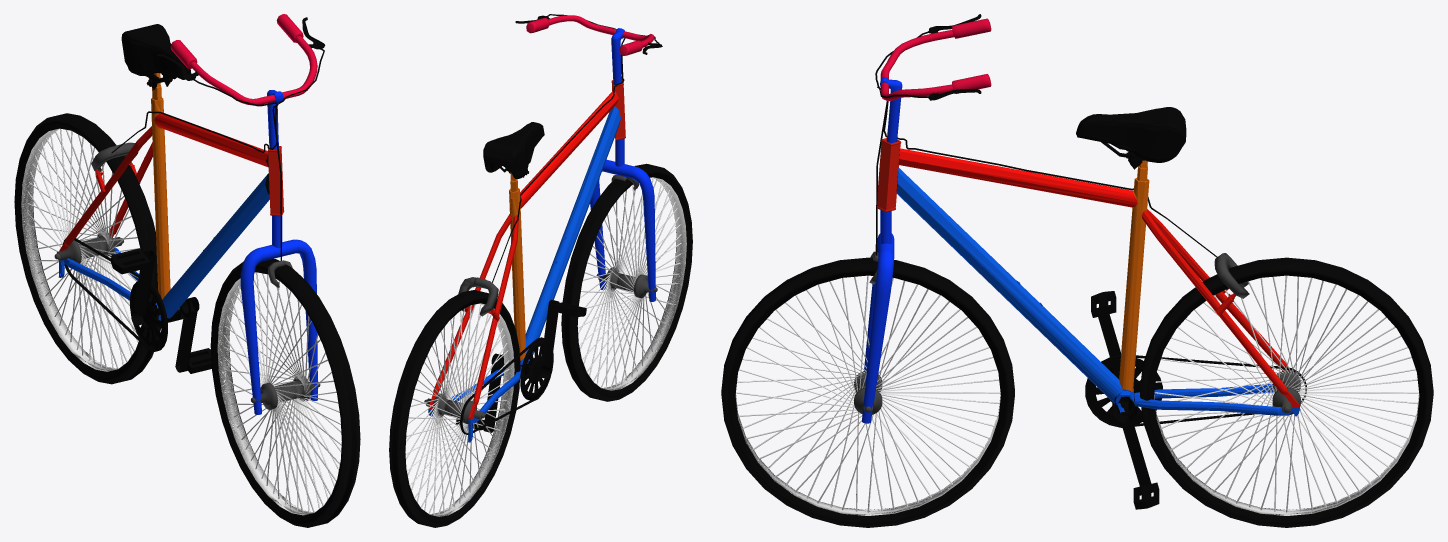
File: Bicycle_1_V2.fbx
3 renders of one model, left to right at view 1: azimuth 30°, elevation 25°; view 2: azimuth 150°, elevation 25°; view 3: azimuth 270°, elevation 25°, orthographic. The views are drawn at different scales.
Parts seen in each view (by area): view 1: FrontWheel, RearWheel, BikeFrame, Handle, Pedalier, PEdalRight, PEdalLeft; view 2: BikeFrame, FrontWheel, RearWheel, Handle, Pedalier, PEdalRight; view 3: BikeFrame, FrontWheel, RearWheel, Handle, Pedalier.
Part boxes in pixels (x1,y1,x2,y2): FrontWheel: (210, 258, 360, 527); RearWheel: (14, 113, 160, 384); BikeFrame: (58, 24, 324, 351); Handle: (157, 14, 325, 414); Pedalier: (131, 250, 199, 372); PEdalRight: (110, 248, 150, 274); PEdalLeft: (188, 348, 211, 373); BikeFrame: (428, 14, 625, 442); FrontWheel: (561, 163, 692, 401); RearWheel: (389, 290, 520, 527); Handle: (515, 15, 662, 301); Pedalier: (483, 299, 559, 432); PEdalRight: (551, 302, 586, 316); BikeFrame: (876, 86, 1306, 427); FrontWheel: (721, 257, 1014, 527); RearWheel: (1140, 257, 1433, 527); Handle: (862, 14, 991, 423); Pedalier: (1097, 306, 1151, 486).
Size of the model in its own units: 116 by 332 by 447.
